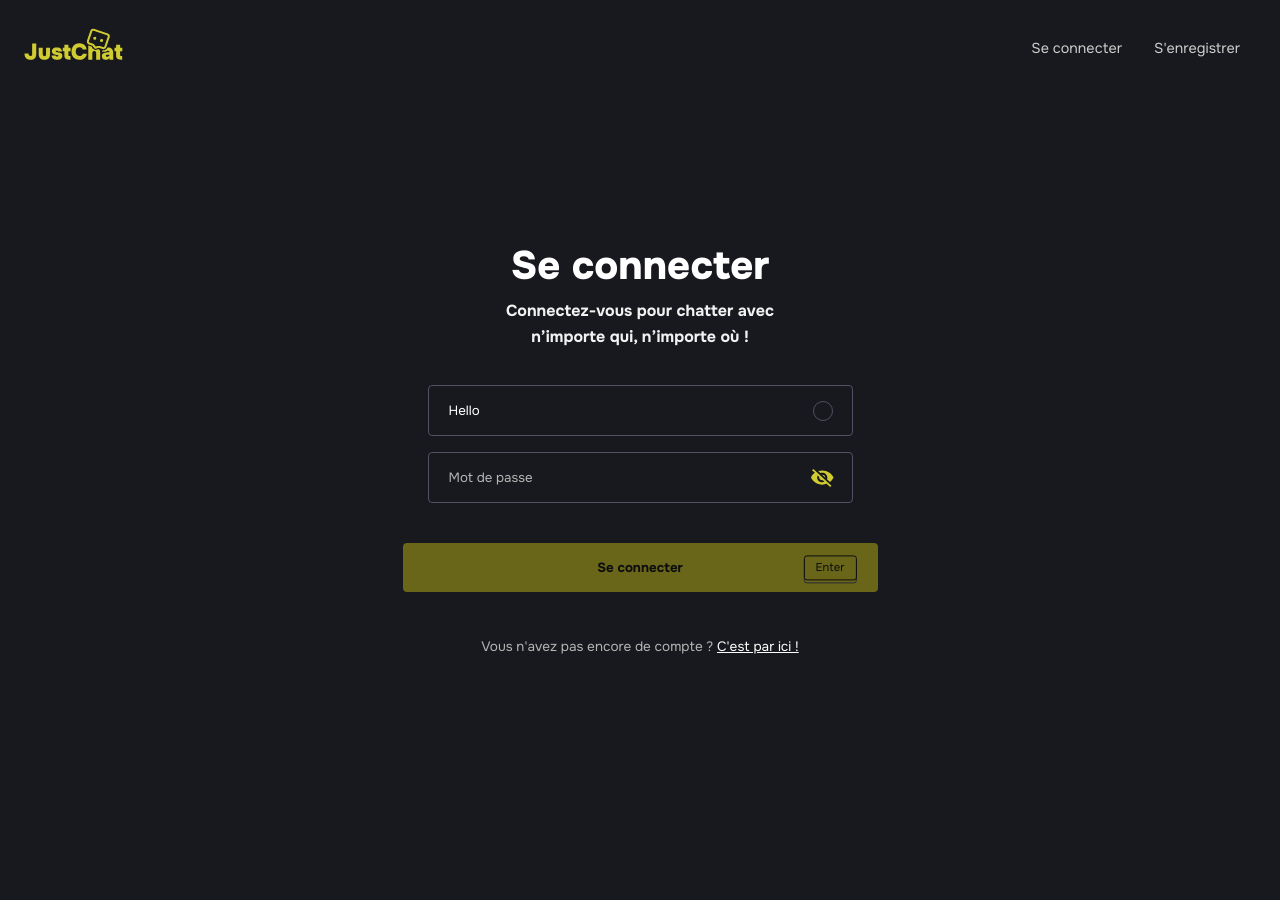
Test: Email input behavior are working › If email is appropriate, Check if a green round with a 'Check' icon appeared
The image size is (1280, 900).
Replace the text in the field with id "email" with "test@gmail.com" at point(640, 411), box [428,385,852,436]
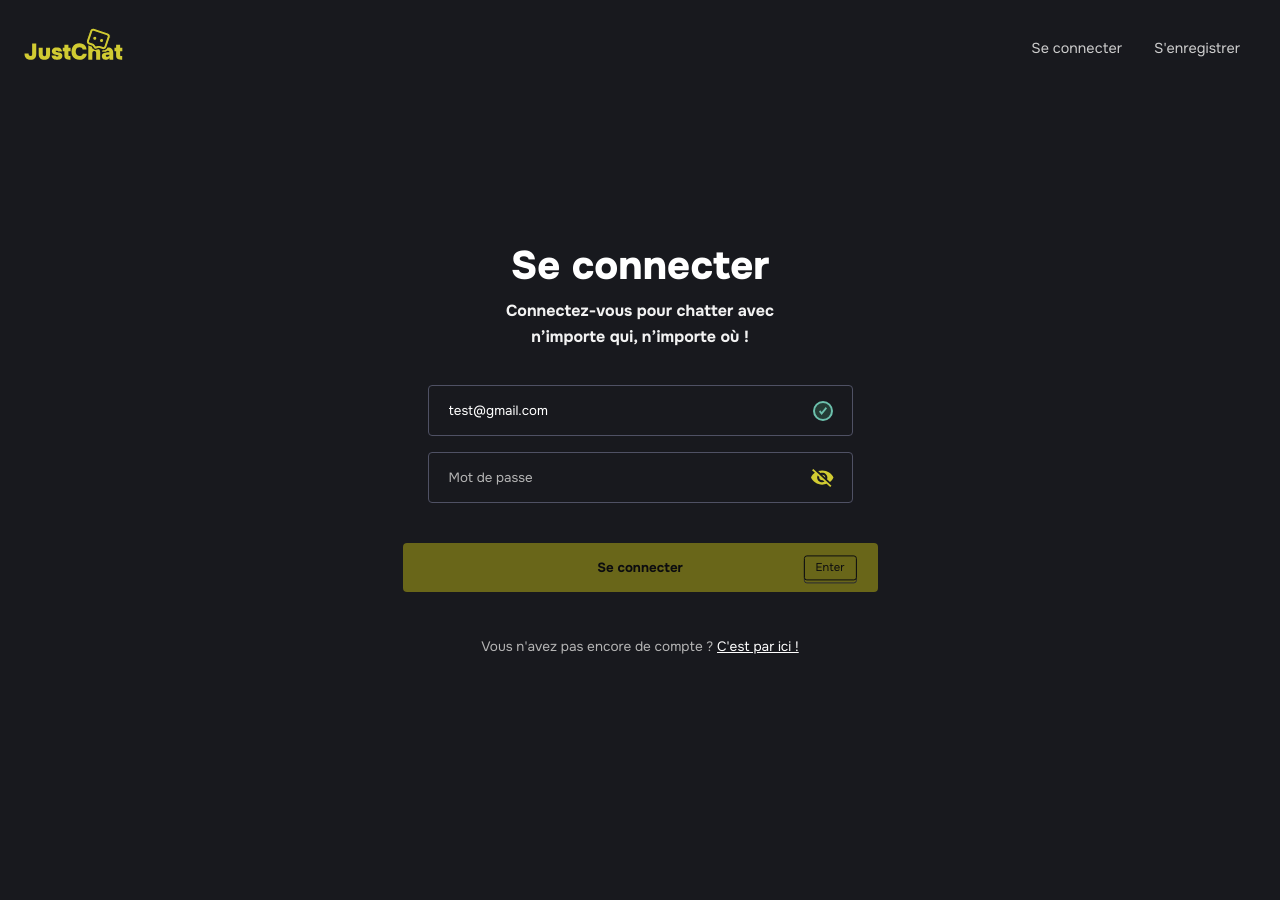
Expected: the 2nd icon is shown, [818,407,826,415]
